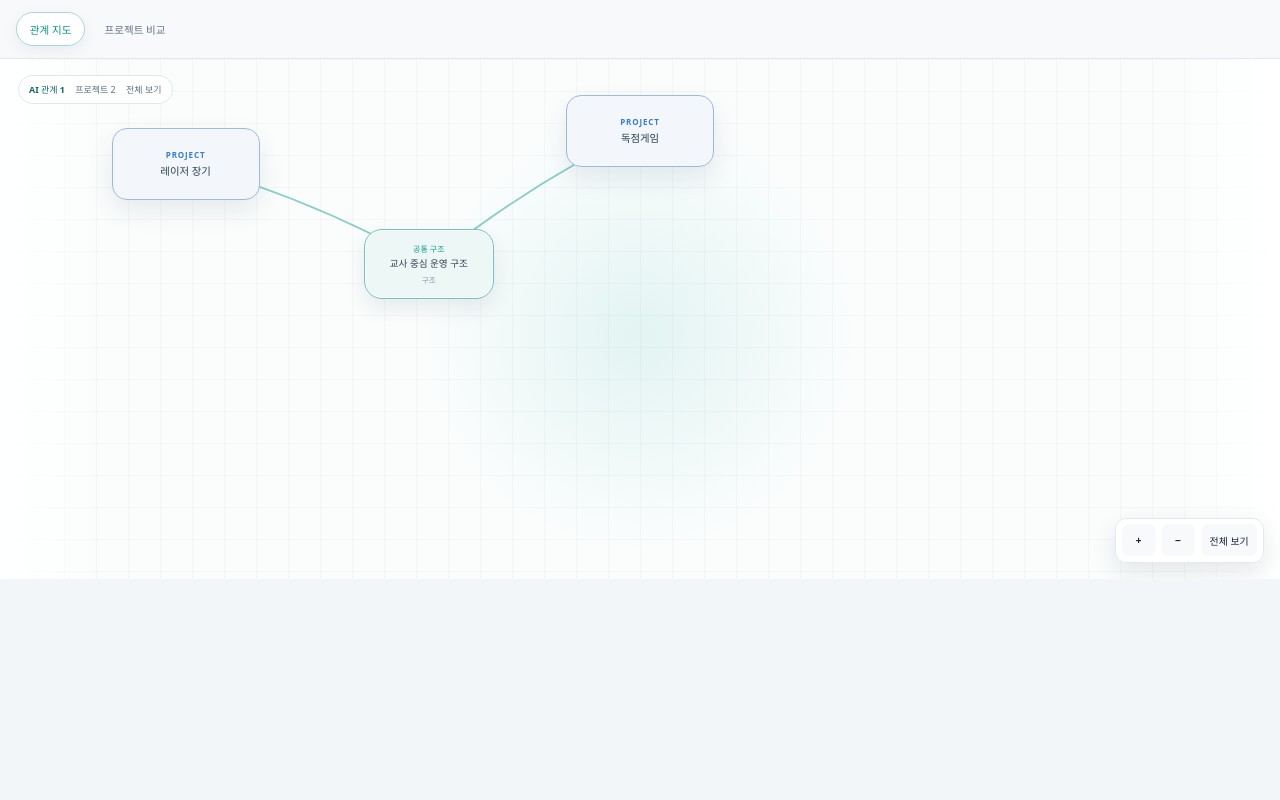
Test: KnowledgeConstellation relationship map › reveals a concise insight only after selecting a visual relationship
Step 1. Click the button "공통 구조 교사 중심 운영 구조 구조" → (429, 264), box [364,229,494,299]
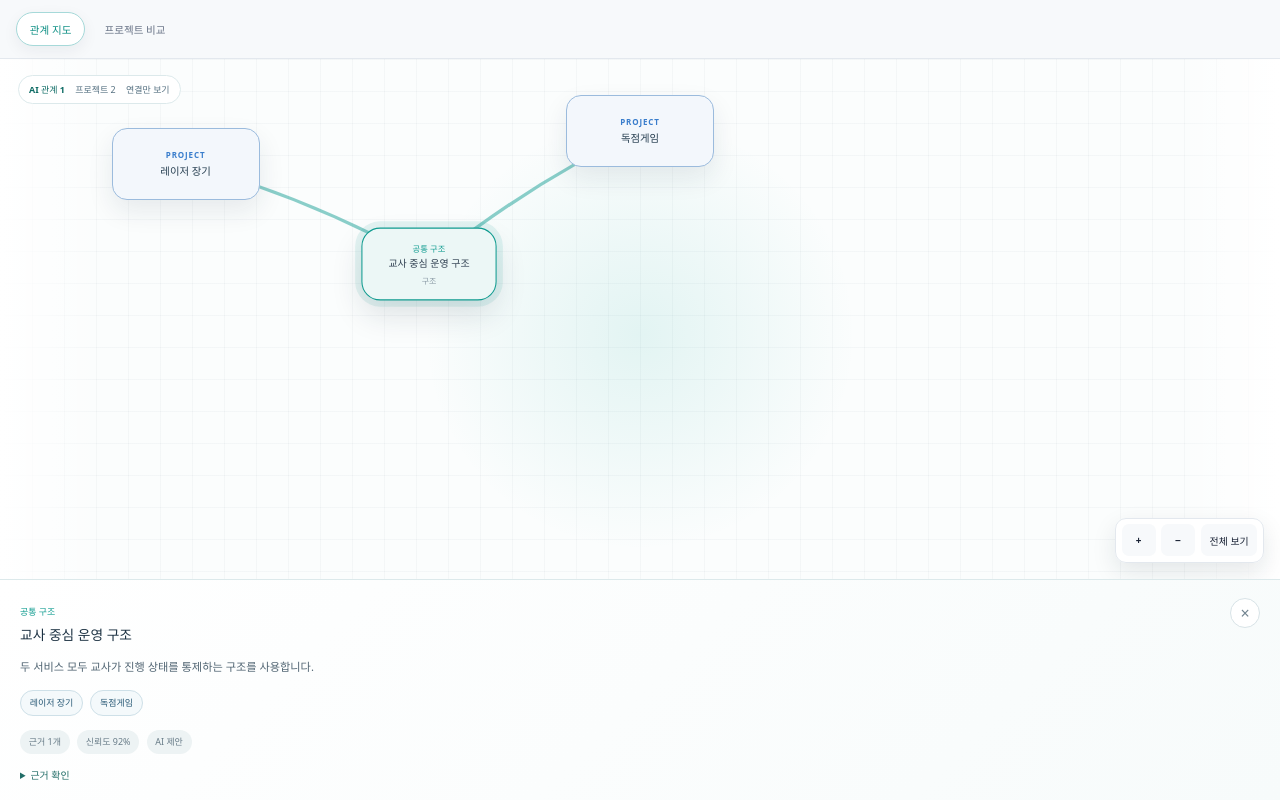
expect the element named "선택한 관계 요약" shows "두 서비스 모두 교사가 진행 상태를 통제하는 구조를 사용합니다.": met, box [20,659,314,674]
expect the text "근거 1개" is shown: met, box [20,730,70,754]
